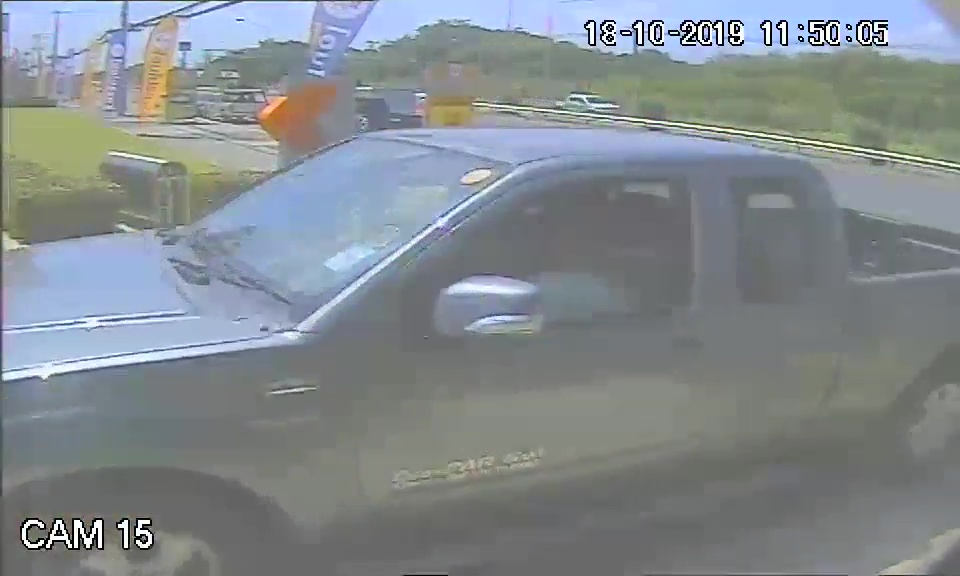pickup: (12, 125, 843, 549)
